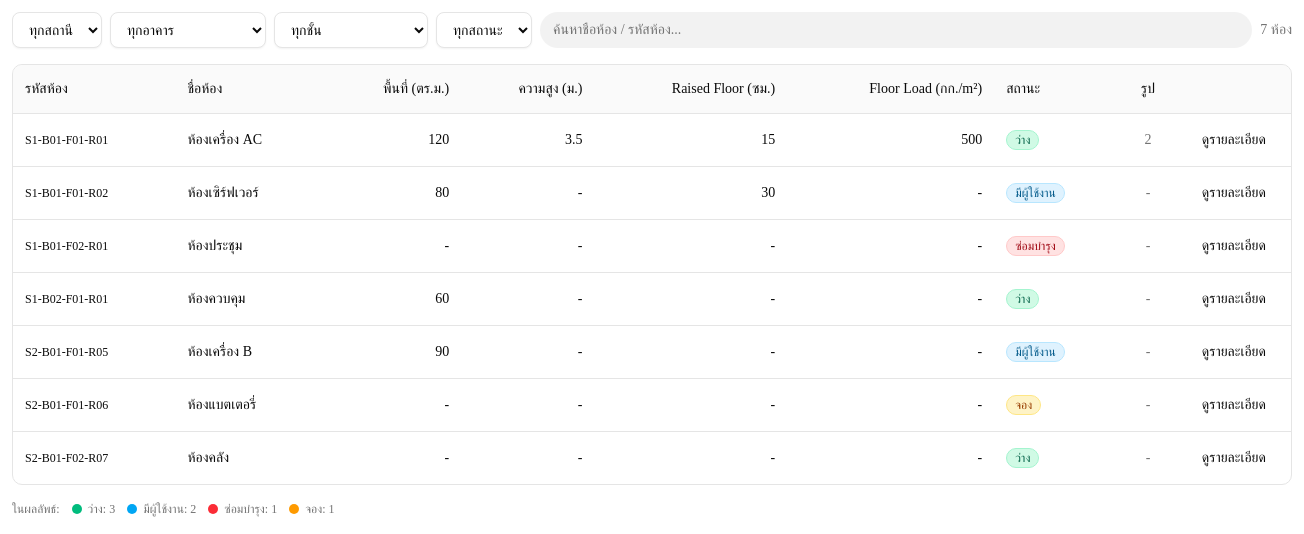
Test case: RoomsClient › filters rooms by status
Step 1. Select "ว่าง" in the 4th dropdown → x=484, y=30, box x1=436 y1=12 x2=532 y2=48
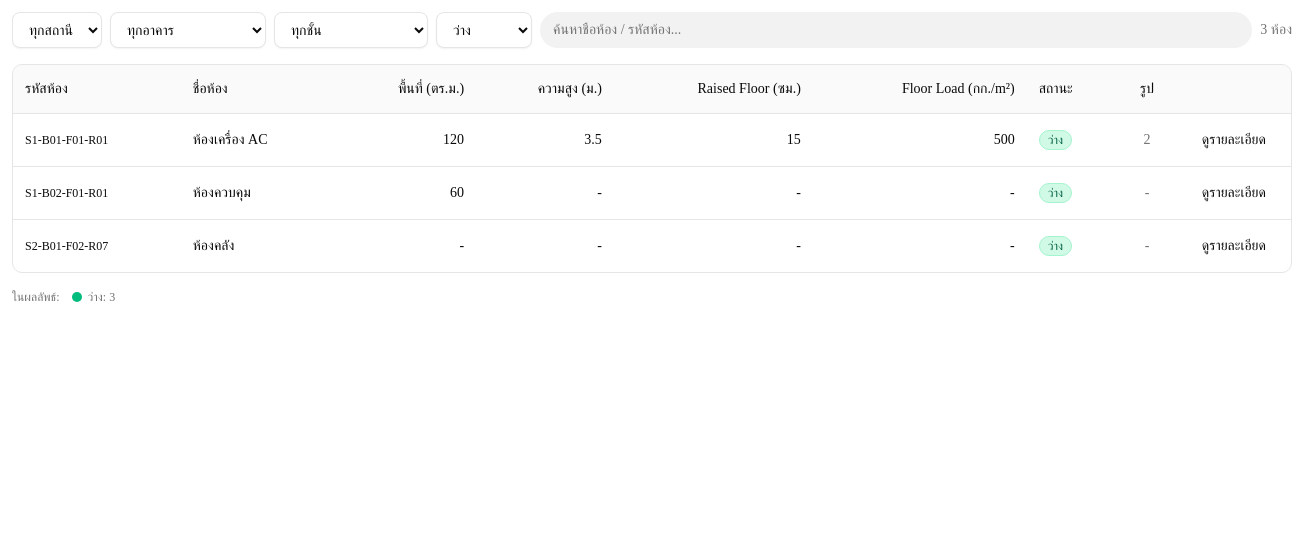
Expected: the text "S1-B02-F01-R01" is shown, x1=13 y1=166 x2=181 y2=219
Expected: the text "3 ห้อง" is shown, x1=1260 y1=20 x2=1292 y2=40
Expected: the text "S1-B01-F01-R02" is gone
